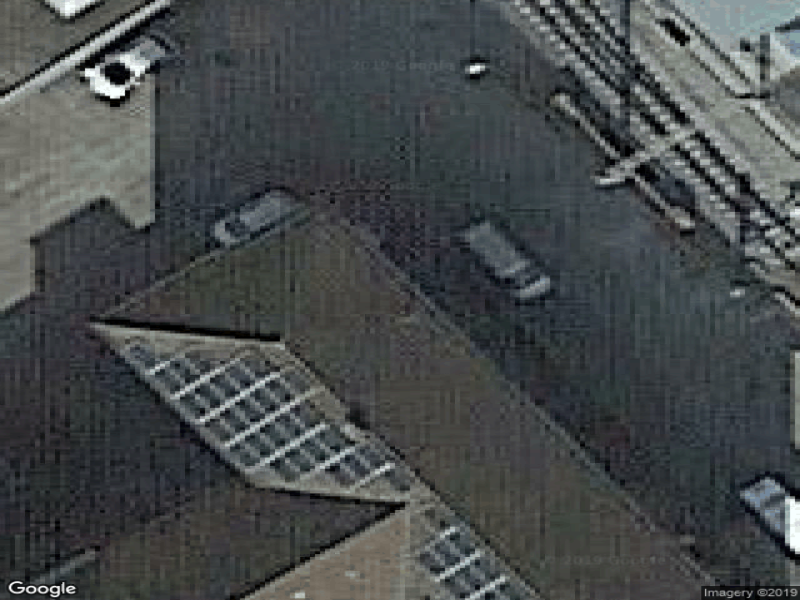pv: (124, 345, 389, 495), (414, 524, 536, 600)
